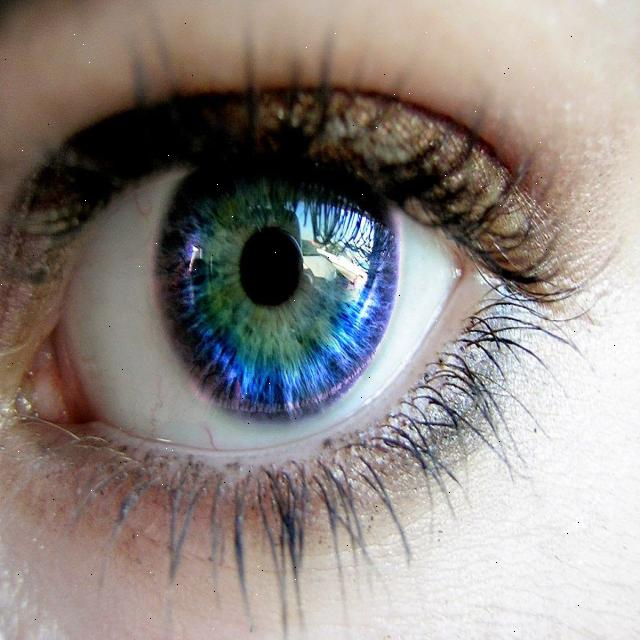Normal: (157, 109, 398, 425)
